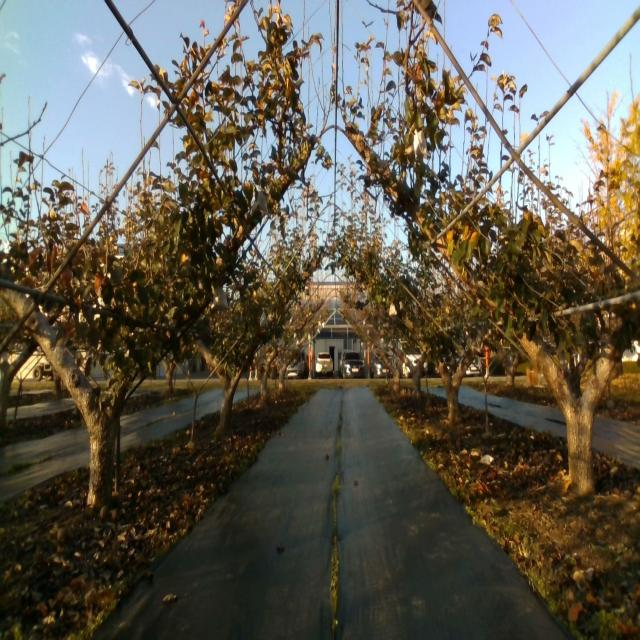pearbags: (413, 130, 432, 160), (212, 284, 228, 310), (252, 191, 268, 215)
